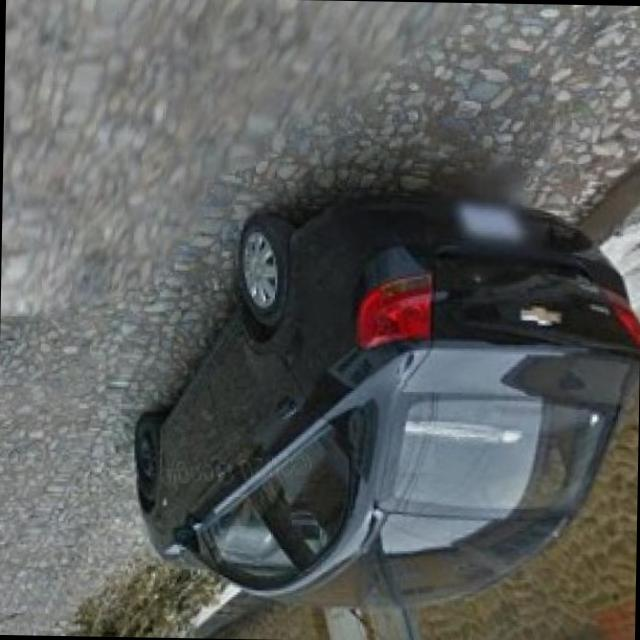car: (128, 178, 640, 604)
